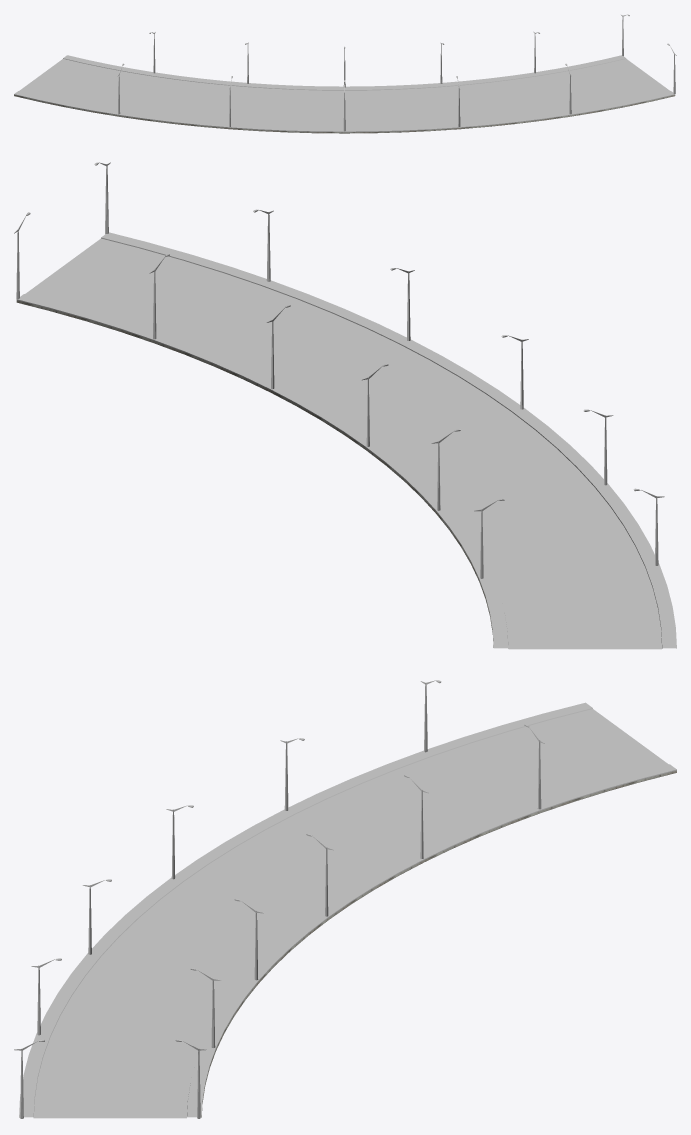
The model's file is Big_Road_60.FBX.
3 renders of one model, top to bottom at view 1: azimuth 30°, elevation 25°; view 2: azimuth 150°, elevation 25°; view 3: azimuth 270°, elevation 25°, orthographic. The views are drawn at different scales.
Parts seen in each view (by area): view 1: Big_Road_60, city_light011; view 2: Big_Road_60, city_light011; view 3: Big_Road_60, city_light011.
Boxes of the visible parts, left/top/right/bottom form: Big_Road_60: left=14, top=55, right=675, bottom=133; city_light011: left=117, top=14, right=676, bottom=131; Big_Road_60: left=16, top=232, right=676, bottom=649; city_light011: left=14, top=162, right=664, bottom=578; Big_Road_60: left=19, top=702, right=676, bottom=1118; city_light011: left=14, top=680, right=544, bottom=1118.
Size of the model in its own units: 12205 by 1104 by 8230.
